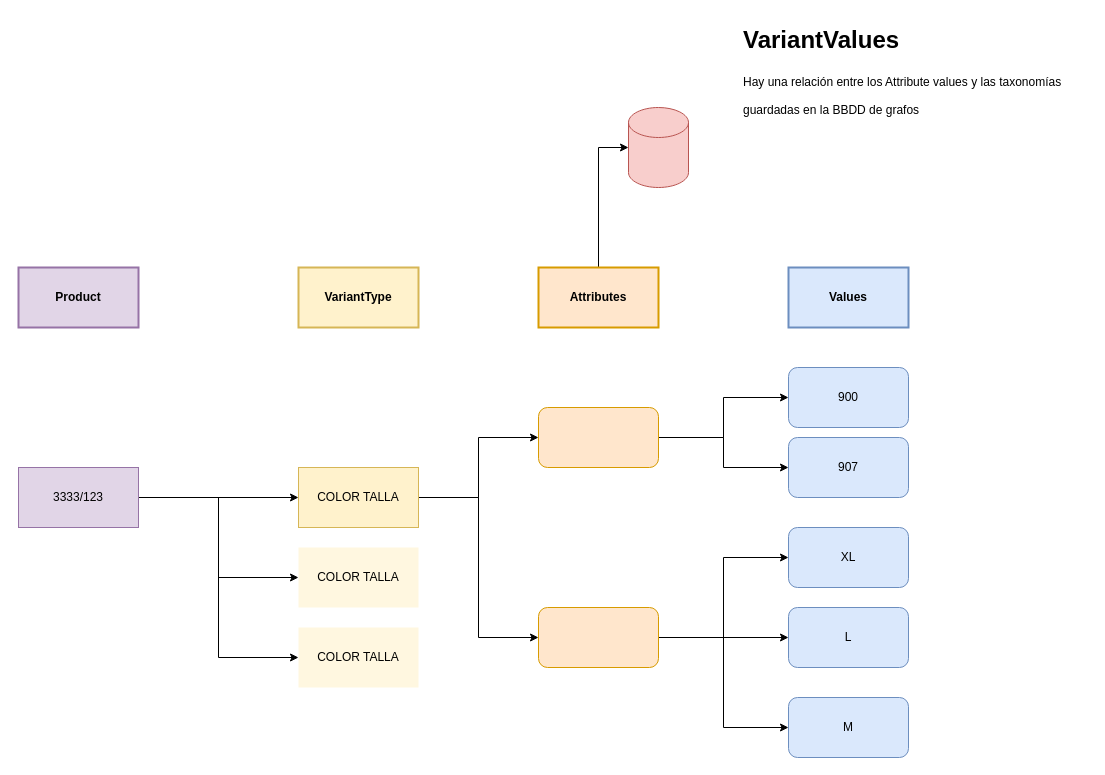
Some shapes in this 1105 by 775 pixel diagram are drawn without their labels. Each missing label, with the centre of its shape:
"COLOR" belongs at (x=598, y=437).
"GRAPH DB" belongs at (x=658, y=147).
"TALLA" belongs at (x=598, y=637).
